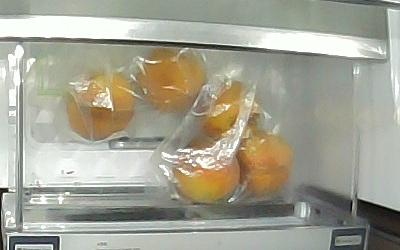peach_vinyl: (67, 72, 135, 142), (137, 46, 207, 111), (173, 137, 240, 202), (234, 132, 294, 196), (199, 80, 262, 138)
